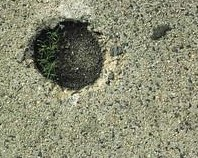Spalling: (32, 18, 103, 91)
